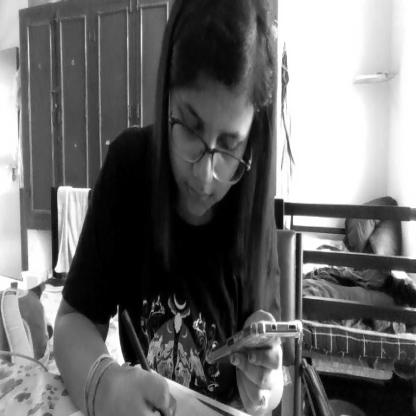Normal: (161, 1, 264, 220)
